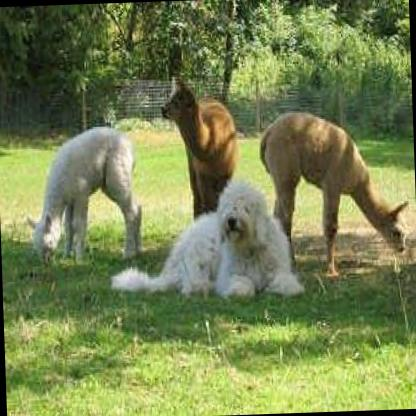komondor: (100, 168, 302, 306)
